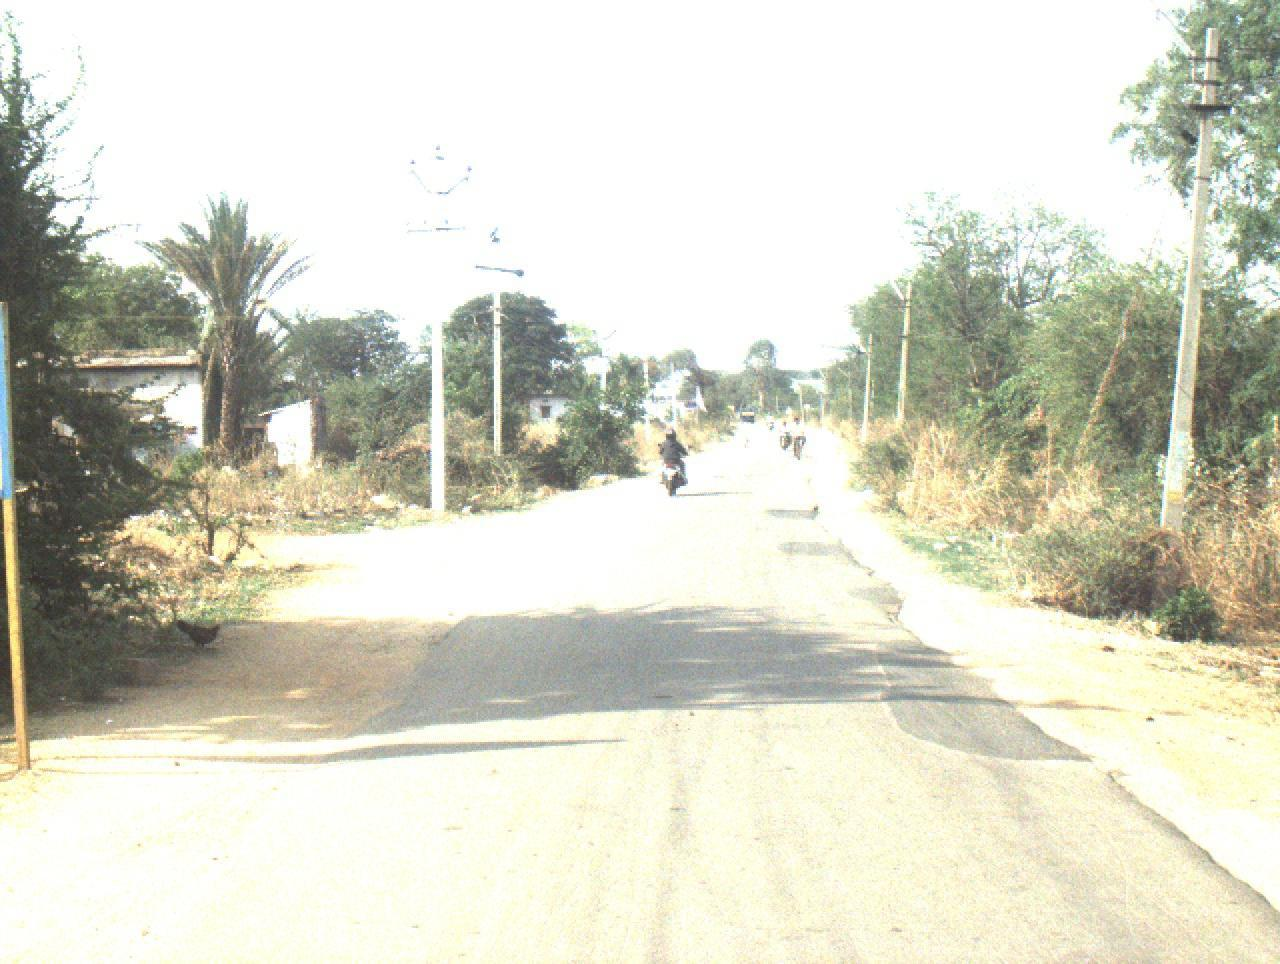off: (125, 46, 951, 964)
